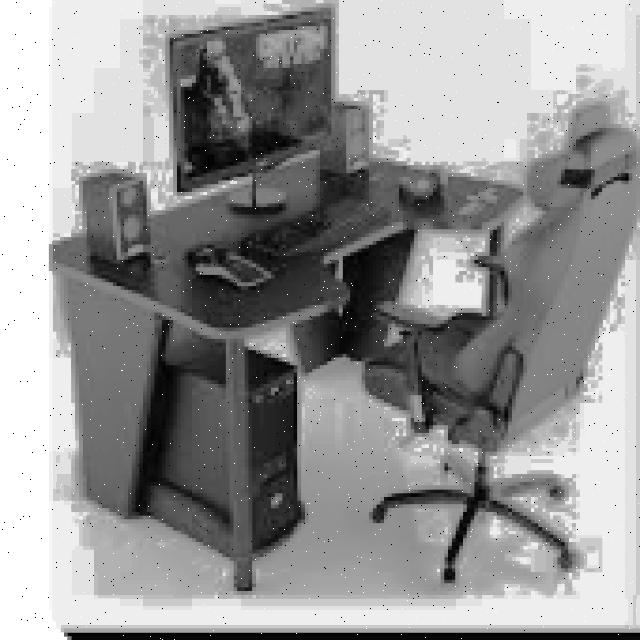book: (361, 116, 640, 584)
table: (53, 151, 527, 591)
